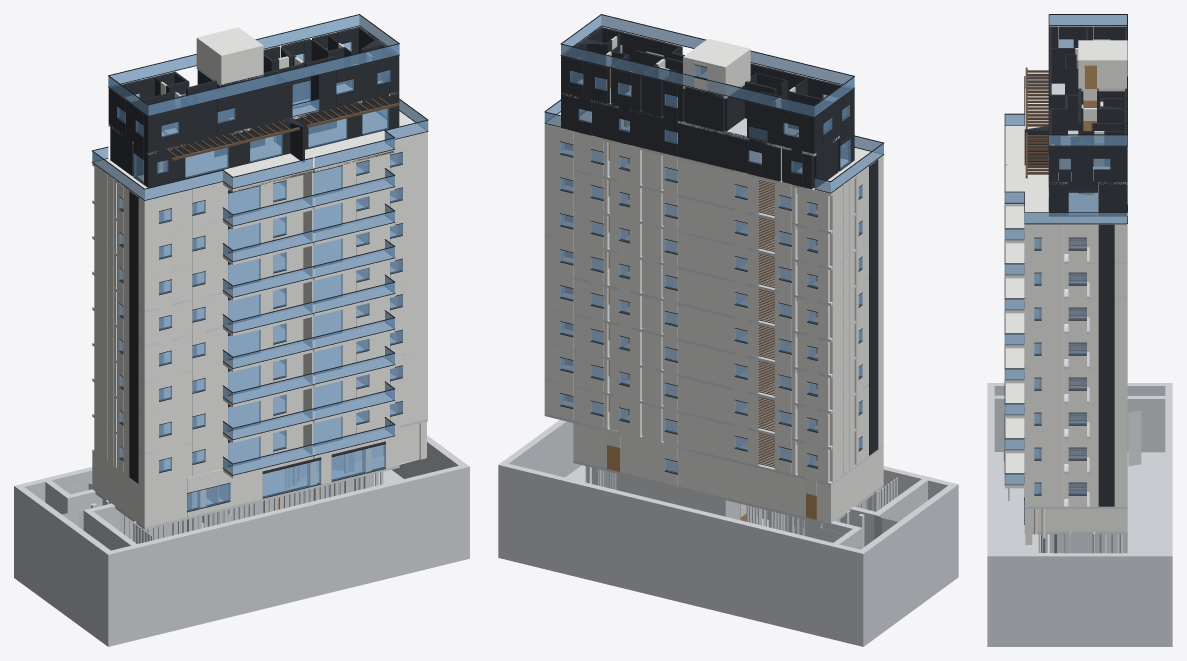
The model's file is feierberg3_model.obj.
The picture shows the model from 3 angles, left to right: view 1: azimuth 30°, elevation 25°; view 2: azimuth 150°, elevation 25°; view 3: azimuth 270°, elevation 25°; orthographic projection. The views are drawn at different scales.
Parts seen in each view (by area): view 1: ext_white, slab_floor, glass_blue, charcoal_crown, alu_dark, bronze_portal, shutter_box; view 2: ext_white, slab_floor, charcoal_crown, glass_blue, alu_dark, bronze_portal, oak_furn, int_wall; view 3: ext_white, slab_floor, charcoal_crown, glass_blue, bronze_portal, alu_dark, oak_furn, int_wall.
Part boxes in pixels (x1=…): ext_white: x1=92, y1=27, x2=427, y2=527; slab_floor: x1=14, y1=64, x2=469, y2=646; glass_blue: x1=92, y1=15, x2=428, y2=511; charcoal_crown: x1=108, y1=26, x2=399, y2=483; alu_dark: x1=92, y1=14, x2=428, y2=512; bronze_portal: x1=166, y1=97, x2=399, y2=191; shutter_box: x1=133, y1=77, x2=388, y2=473; ext_white: x1=544, y1=38, x2=883, y2=523; slab_floor: x1=498, y1=71, x2=958, y2=646; charcoal_crown: x1=561, y1=27, x2=878, y2=455; glass_blue: x1=544, y1=15, x2=883, y2=473; alu_dark: x1=544, y1=14, x2=884, y2=474; bronze_portal: x1=758, y1=179, x2=774, y2=467; oak_furn: x1=606, y1=64, x2=817, y2=521; int_wall: x1=606, y1=36, x2=816, y2=517; ext_white: x1=1005, y1=40, x2=1127, y2=545; slab_floor: x1=987, y1=70, x2=1172, y2=646; charcoal_crown: x1=1024, y1=26, x2=1127, y2=506; glass_blue: x1=1004, y1=15, x2=1127, y2=523; bronze_portal: x1=1025, y1=67, x2=1086, y2=493; alu_dark: x1=1004, y1=14, x2=1127, y2=524; oak_furn: x1=1039, y1=60, x2=1103, y2=493; int_wall: x1=1061, y1=48, x2=1104, y2=208.
Bounding box in the file's own units: 33.5 × 45.87 × 15.13.
